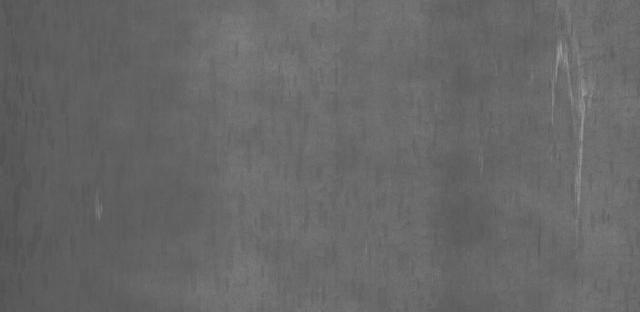silk_spot: (508, 33, 618, 223)
